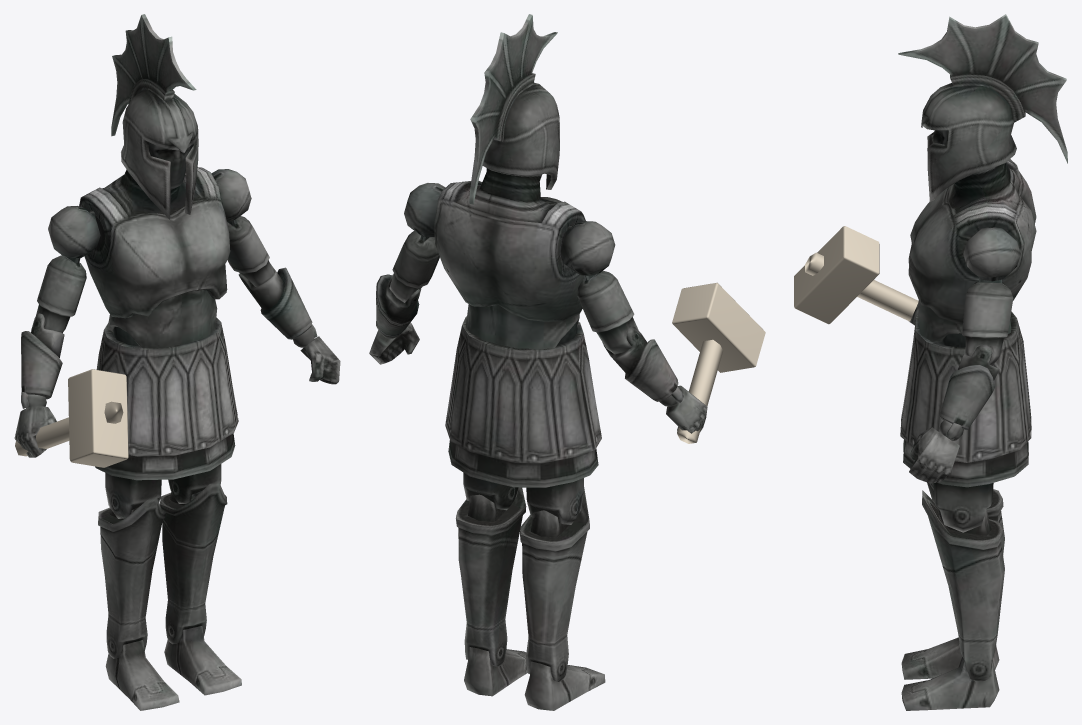
Rendered from 53-automaton.glb.
The picture shows the model from 3 angles, left to right: view 1: azimuth 30°, elevation 25°; view 2: azimuth 150°, elevation 25°; view 3: azimuth 270°, elevation 25°; orthographic projection. The views are drawn at different scales.
Bounding box in the file's own units: 1.56 × 3.06 × 1.13.
Materials: 2 (1 with a texture image).
